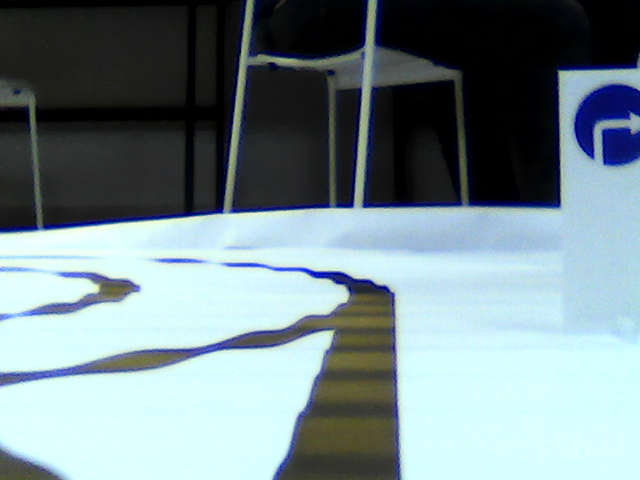Right: (568, 82, 640, 170)
